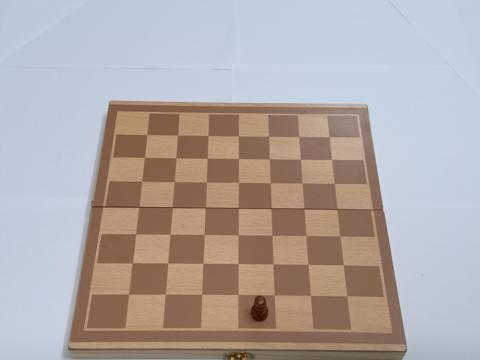xcorner: (265, 179, 275, 189), (142, 131, 152, 140), (134, 203, 143, 213), (131, 230, 140, 240), (128, 259, 137, 269), (124, 290, 134, 299), (173, 131, 182, 141), (161, 290, 170, 300), (202, 154, 211, 164), (199, 231, 208, 241), (233, 132, 243, 141), (233, 155, 243, 164), (233, 204, 242, 214), (233, 260, 242, 270), (264, 132, 273, 142), (264, 155, 274, 164), (269, 292, 279, 301), (296, 155, 305, 165), (297, 180, 307, 189), (299, 205, 308, 215), (301, 232, 310, 242), (303, 261, 312, 271), (305, 292, 315, 301), (324, 133, 334, 142), (329, 180, 339, 189), (338, 262, 348, 271), (342, 292, 351, 302), (140, 154, 149, 163), (137, 178, 146, 187), (171, 154, 180, 163), (169, 178, 178, 187), (167, 204, 176, 213), (165, 231, 174, 240), (163, 260, 172, 269), (203, 132, 212, 141), (201, 179, 210, 188), (200, 204, 209, 213), (198, 260, 207, 269), (197, 291, 206, 300), (233, 179, 242, 188), (233, 232, 242, 241), (233, 291, 242, 300), (266, 205, 275, 214), (267, 232, 276, 241), (268, 261, 277, 270), (294, 133, 303, 142), (327, 156, 336, 165), (332, 206, 341, 215), (335, 233, 344, 242)
